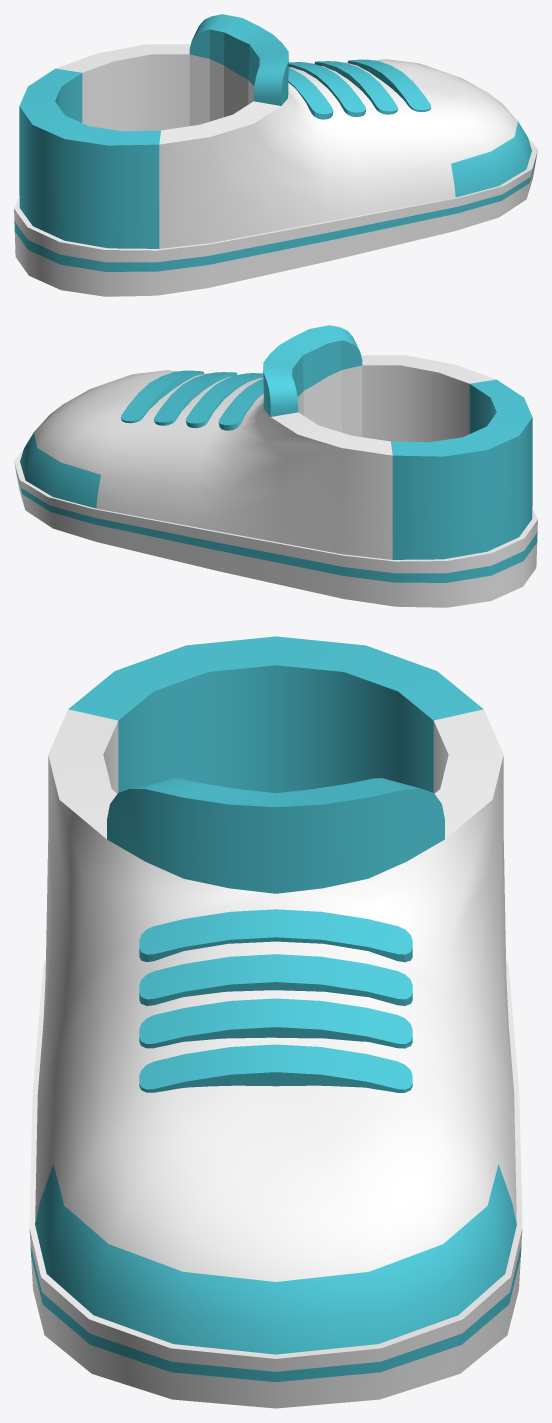
The model's file is running_shoe.glb.
3 views of the same model, one above another, from view 1: azimuth 30°, elevation 25°; view 2: azimuth 150°, elevation 25°; view 3: azimuth 270°, elevation 25° (orthographic). The views are drawn at different scales.
Visible parts, largest first — view 1: Sphere.363; view 2: Sphere.363; view 3: Sphere.363.
Boxes of the visible parts, x1,y1,x2,y2 form: Sphere.363: (14,14,537,296); Sphere.363: (14,325,537,607); Sphere.363: (29,636,522,1408).
Size of the model in its own units: 2.2 by 0.7812 by 0.9528.
1 material, 1 textured.
